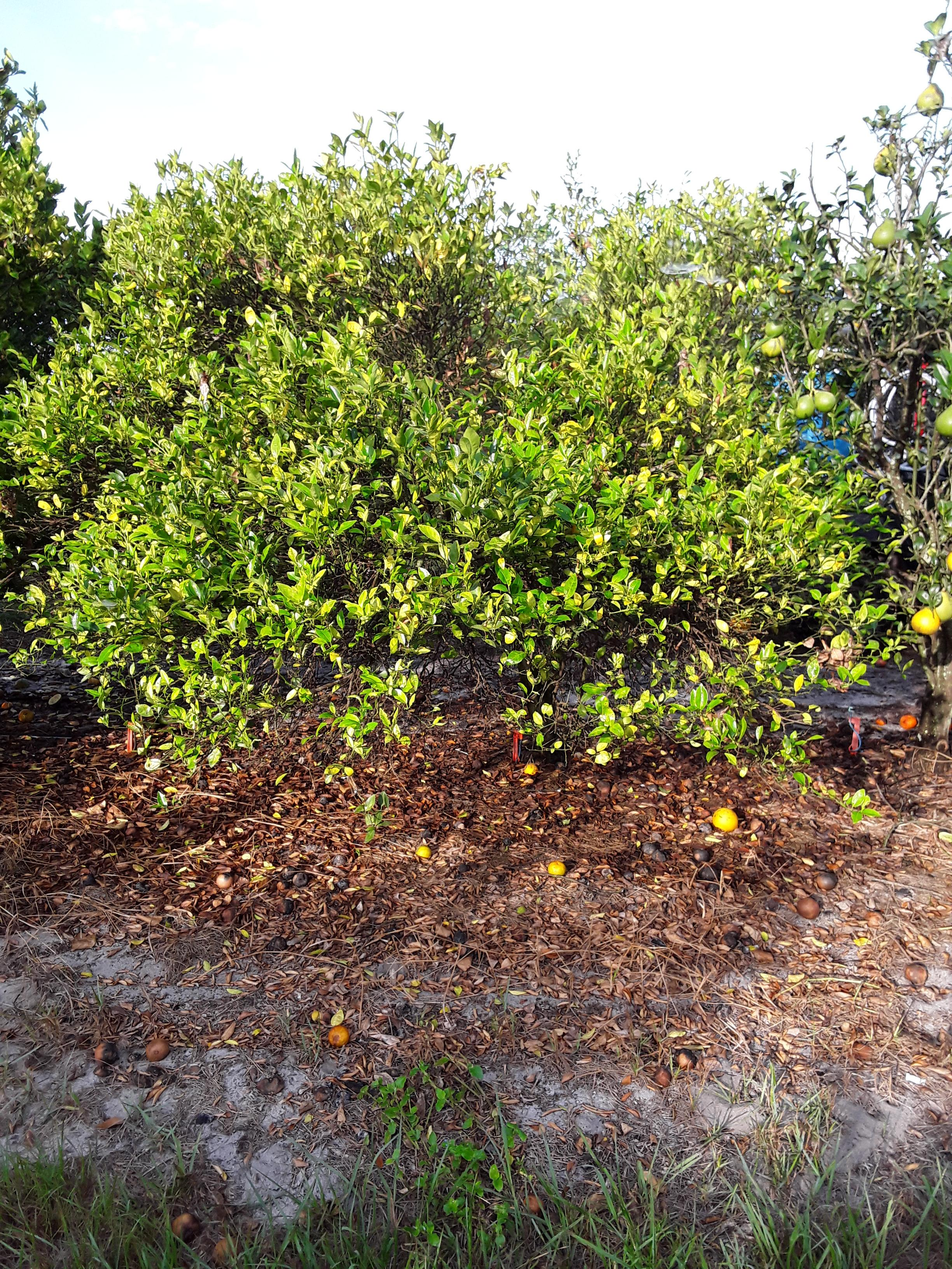fruit_on_ground: (868, 139, 906, 180), (869, 215, 901, 254), (915, 84, 945, 121), (911, 603, 943, 636), (933, 399, 952, 440), (929, 591, 952, 623), (794, 392, 818, 420), (761, 333, 787, 358), (814, 389, 838, 415), (763, 318, 788, 340), (777, 269, 798, 295), (816, 871, 838, 889)
fruit_on_tree: (166, 1210, 200, 1239), (209, 1234, 244, 1262), (710, 806, 742, 836), (139, 1036, 172, 1064), (325, 1022, 353, 1050), (795, 896, 821, 921), (544, 859, 569, 881), (520, 1192, 544, 1214), (410, 843, 436, 862), (897, 710, 918, 733), (520, 761, 541, 781), (213, 872, 234, 889), (17, 706, 36, 722)
